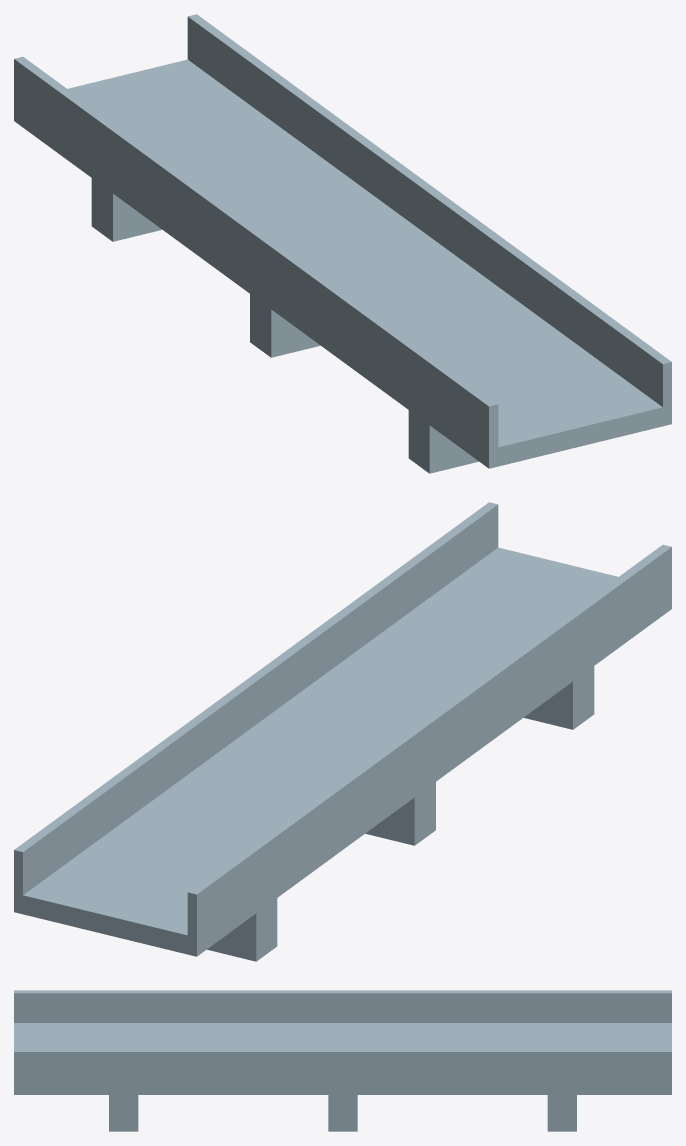
The model's file is bo_stone_bridge.fbx.
3 views of the same model, one above another, from view 1: azimuth 30°, elevation 25°; view 2: azimuth 150°, elevation 25°; view 3: azimuth 270°, elevation 25° (orthographic). The views are drawn at different scales.
Visible parts, largest first — view 1: bo_stone_bridge; view 2: bo_stone_bridge; view 3: bo_stone_bridge.
Part boxes in pixels (x1,y1,x2,y2): bo_stone_bridge: (14,14,671,473); bo_stone_bridge: (14,502,671,961); bo_stone_bridge: (14,990,671,1131).
Size of the model in its own units: 4 by 2.5 by 18.
Materials: 1 (1 with a texture image).
